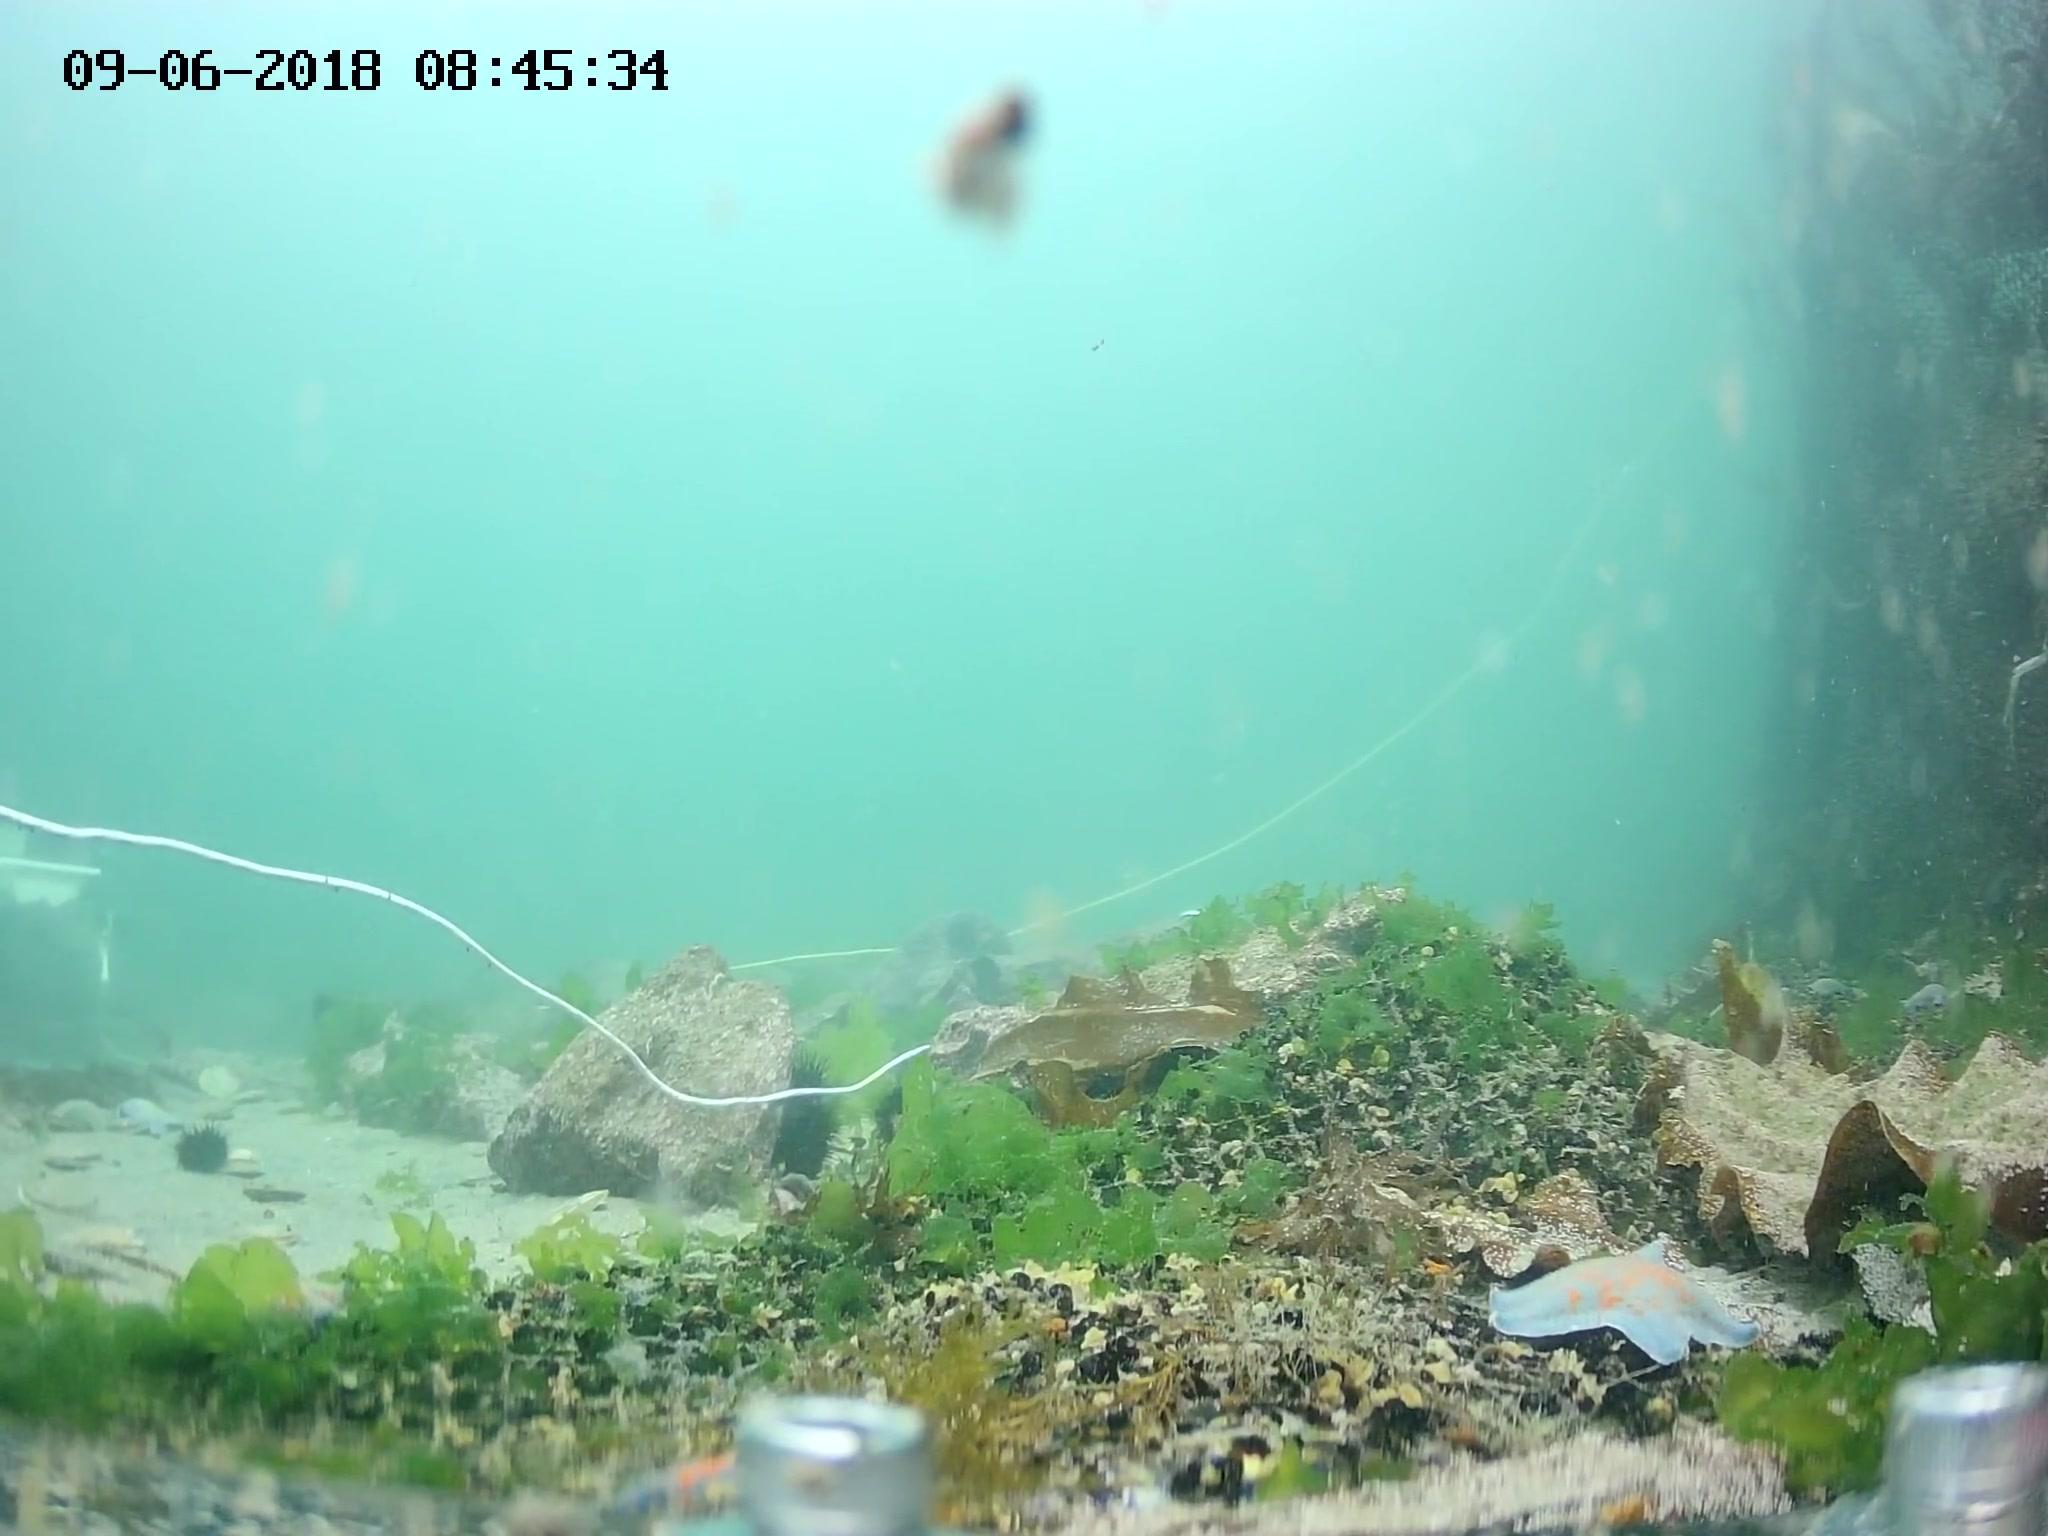echinus: (758, 1058, 845, 1175), (177, 1128, 232, 1184)
scallop: (26, 1176, 105, 1212), (548, 1191, 606, 1231), (45, 1142, 105, 1175), (229, 1144, 268, 1184), (248, 1183, 310, 1205), (198, 1063, 231, 1100)
starfish: (1484, 1226, 1775, 1384), (619, 1442, 748, 1526), (52, 1213, 147, 1262), (273, 1271, 348, 1329), (40, 1092, 110, 1146), (111, 1096, 174, 1137)
